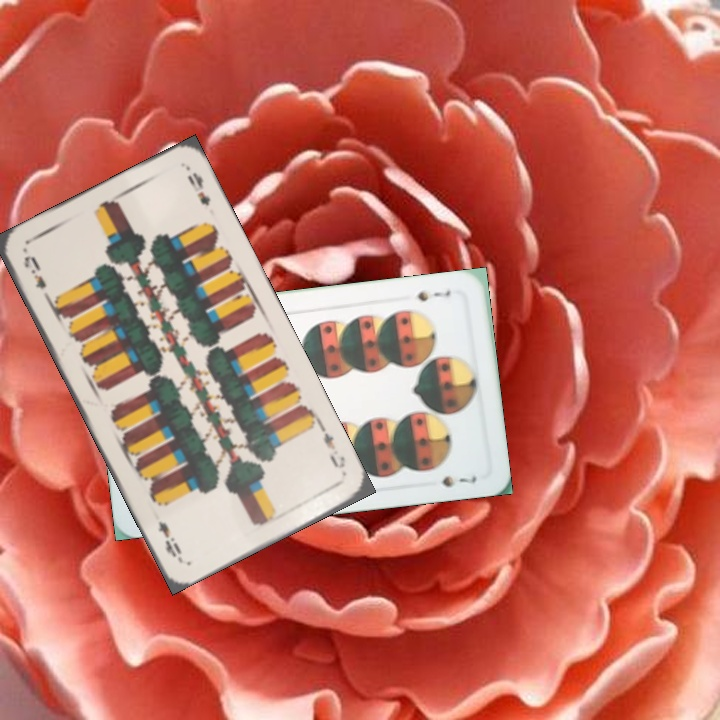E9: (19, 251, 53, 304), (316, 423, 349, 471)
S7: (413, 285, 453, 304)
